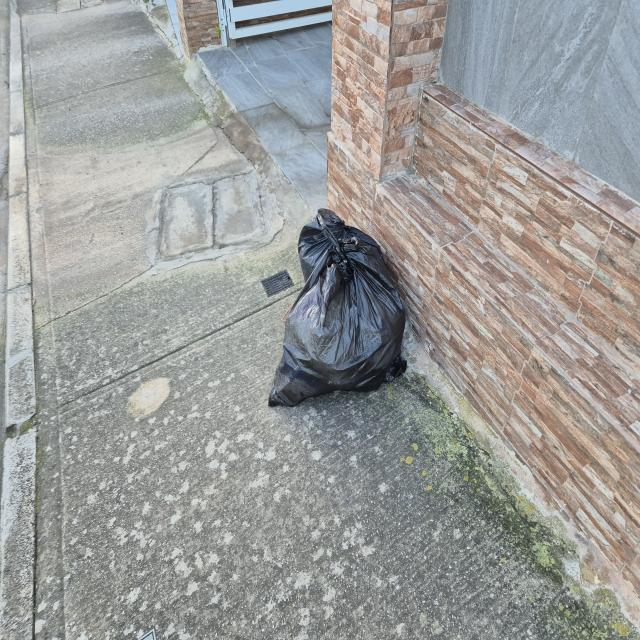black_bag: (264, 194, 409, 410)
